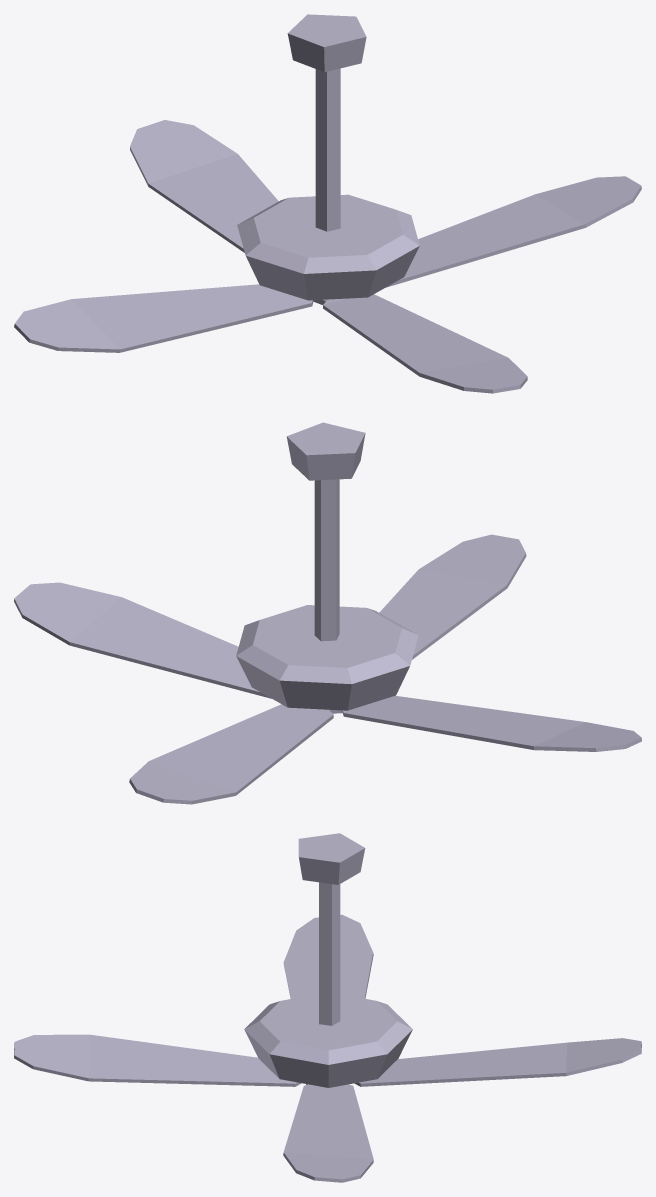
File: Ventilador.fbx
3 renders of one model, top to bottom at view 1: azimuth 30°, elevation 25°; view 2: azimuth 150°, elevation 25°; view 3: azimuth 270°, elevation 25°, orthographic. The views are drawn at different scales.
Parts seen in each view (by area): view 1: Cube, Cube.001; view 2: Cube, Cube.001; view 3: Cube, Cube.001.
Part boxes in pixels (bbox=[...]): Cube: bbox=[14, 120, 641, 393]; Cube.001: bbox=[237, 14, 419, 300]; Cube: bbox=[14, 534, 641, 804]; Cube.001: bbox=[236, 422, 418, 710]; Cube: bbox=[14, 914, 641, 1182]; Cube.001: bbox=[244, 833, 412, 1087].
Size of the model in its own units: 892 by 366 by 898.
